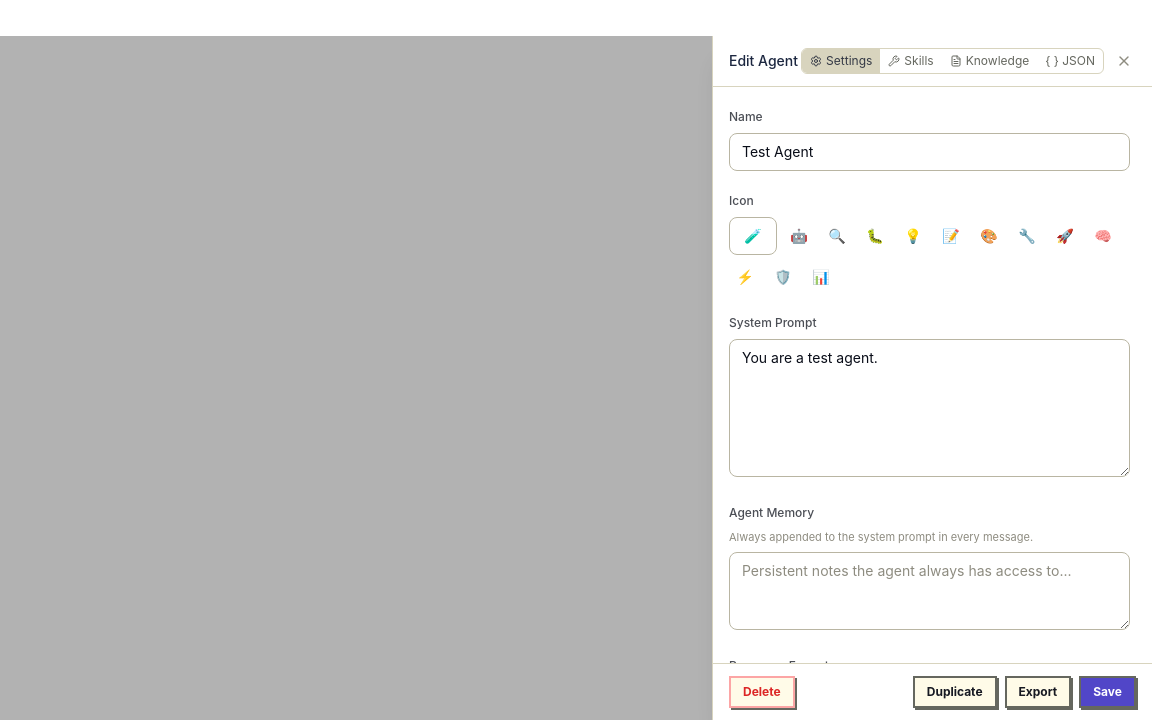
Scenario: Knowledge File Editor › kf-r-5: back button returns to file list without saving
Click the button "Knowledge".
click(990, 61)  # box [942,49,1037,73]
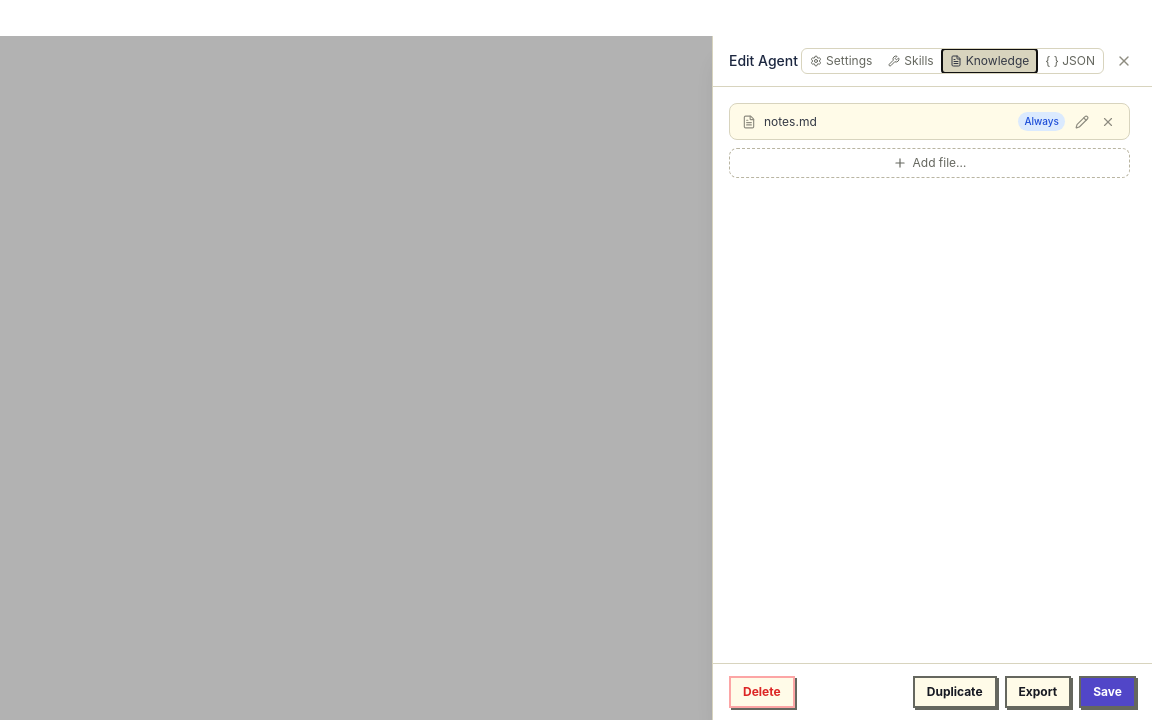
Expected: the text "notes.md" is shown, [764,114,817,128]
Click the button named "Edit /docs/notes.md".
click(1082, 122)  # box [1073,112,1091,130]
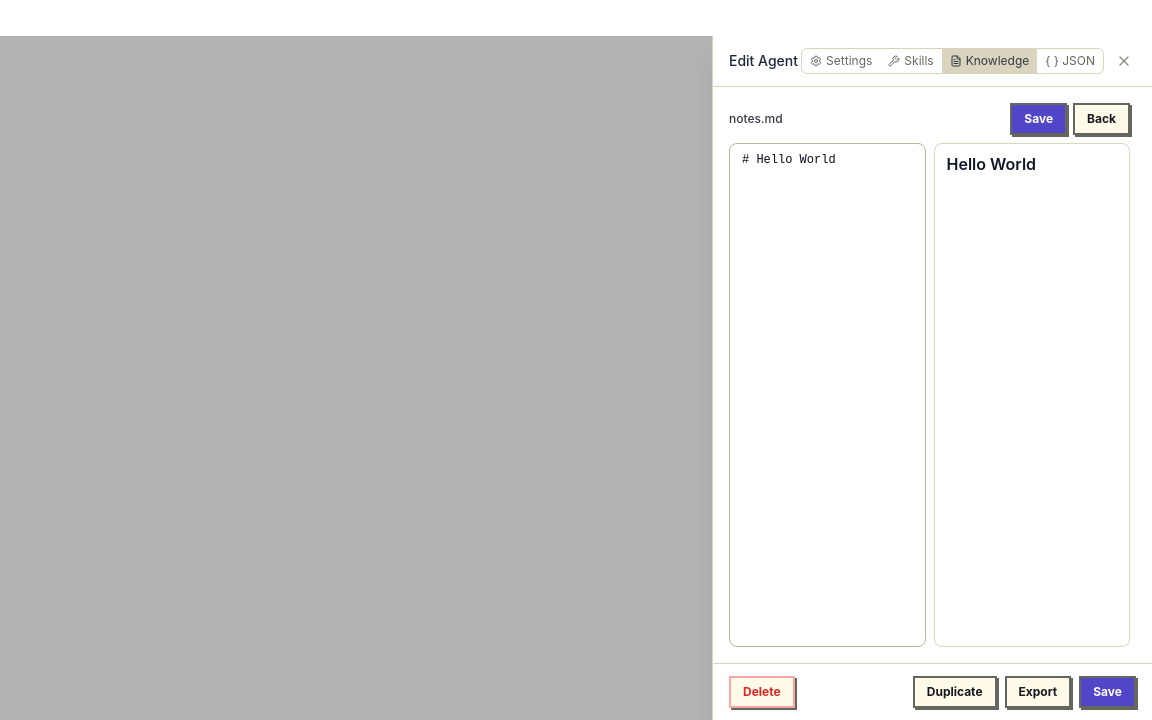
Expected: the text "notes.md" is shown, [729,111,783,127]
Click the button "Back".
click(1102, 119)  # box [1073,103,1130,135]
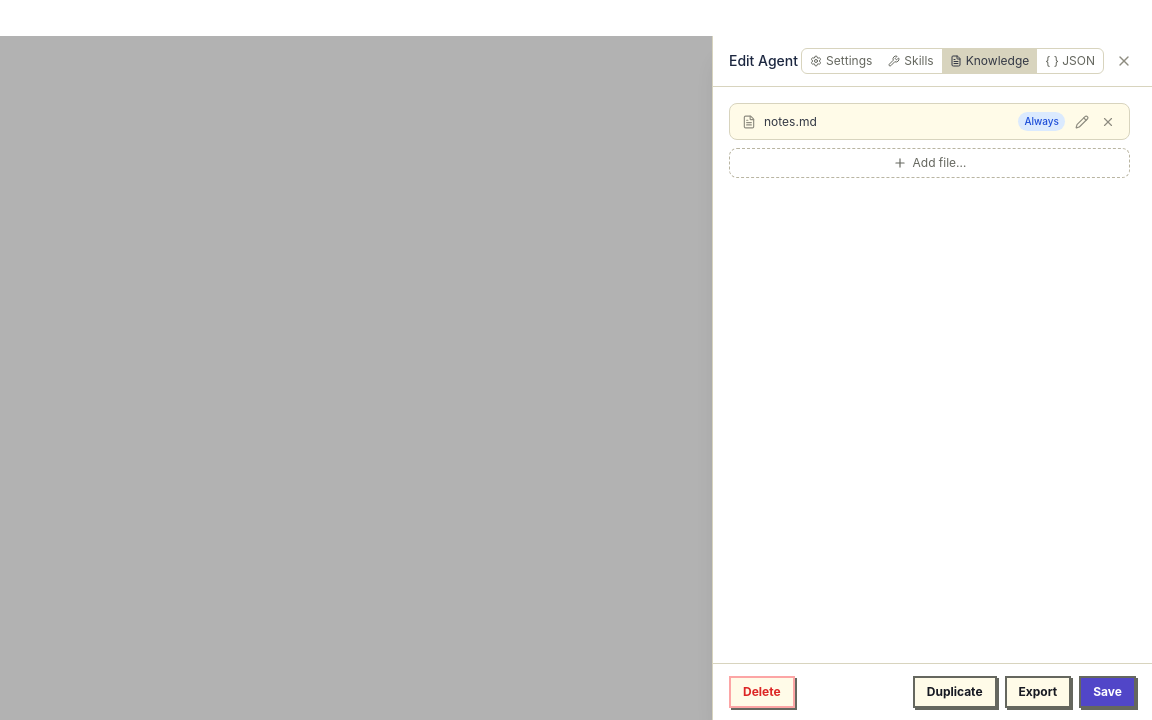
Expected: the button "Add file…" is shown, [729,148,1130,178]
